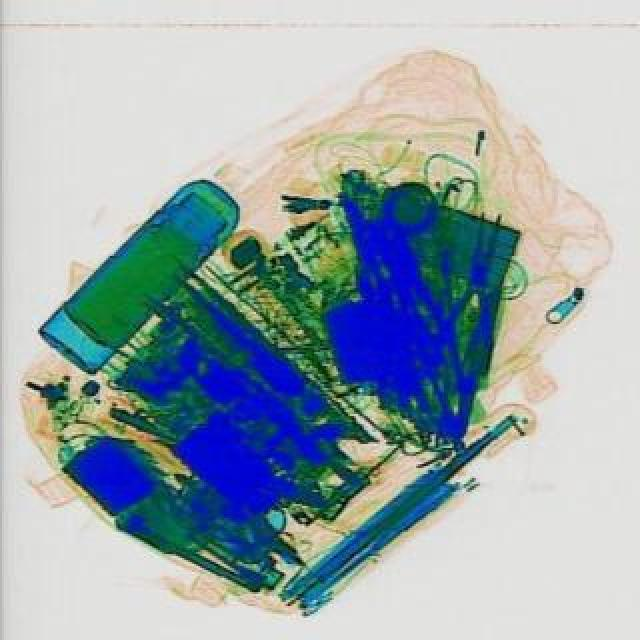wrench: (428, 204, 520, 372)
